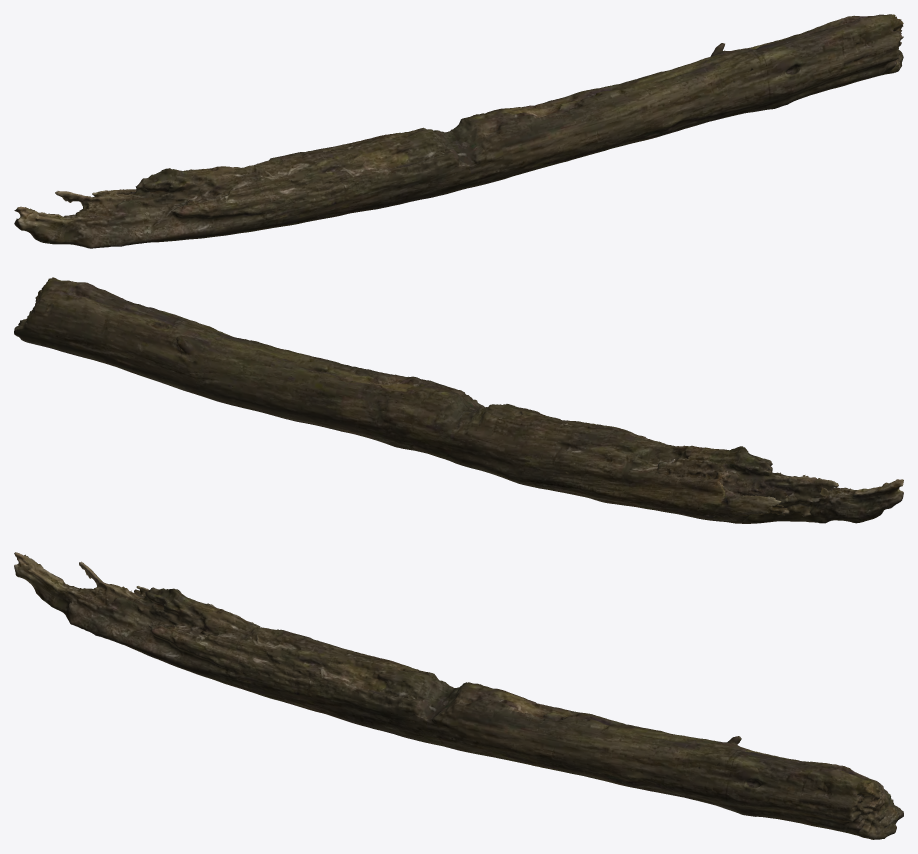
Rendered from dead_tree_trunk_low.glb.
3 renders of one model, top to bottom at view 1: azimuth 30°, elevation 25°; view 2: azimuth 150°, elevation 25°; view 3: azimuth 330°, elevation 25°, orthographic.
Visible parts, largest first — view 1: dead_tree_trunk; view 2: dead_tree_trunk; view 3: dead_tree_trunk.
Part boxes in pixels (x1,y1,x2,y2): dead_tree_trunk: (14,14,903,248); dead_tree_trunk: (14,277,903,523); dead_tree_trunk: (14,552,903,839).
Size of the model in its own units: 3.05 by 0.2905 by 0.2775.
1 material, 1 textured.
